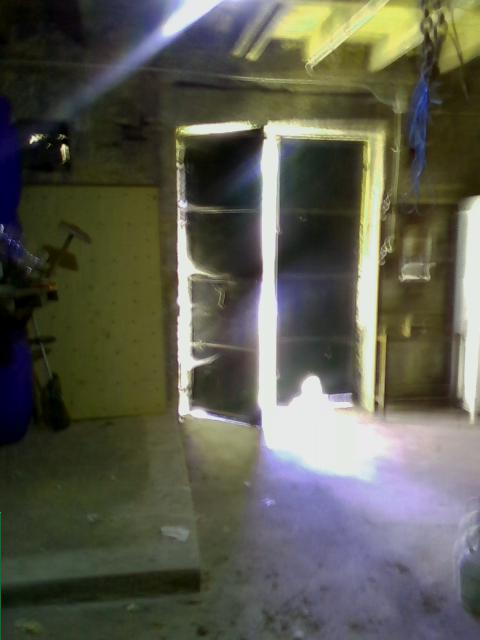semi_door: (159, 82, 391, 428)
